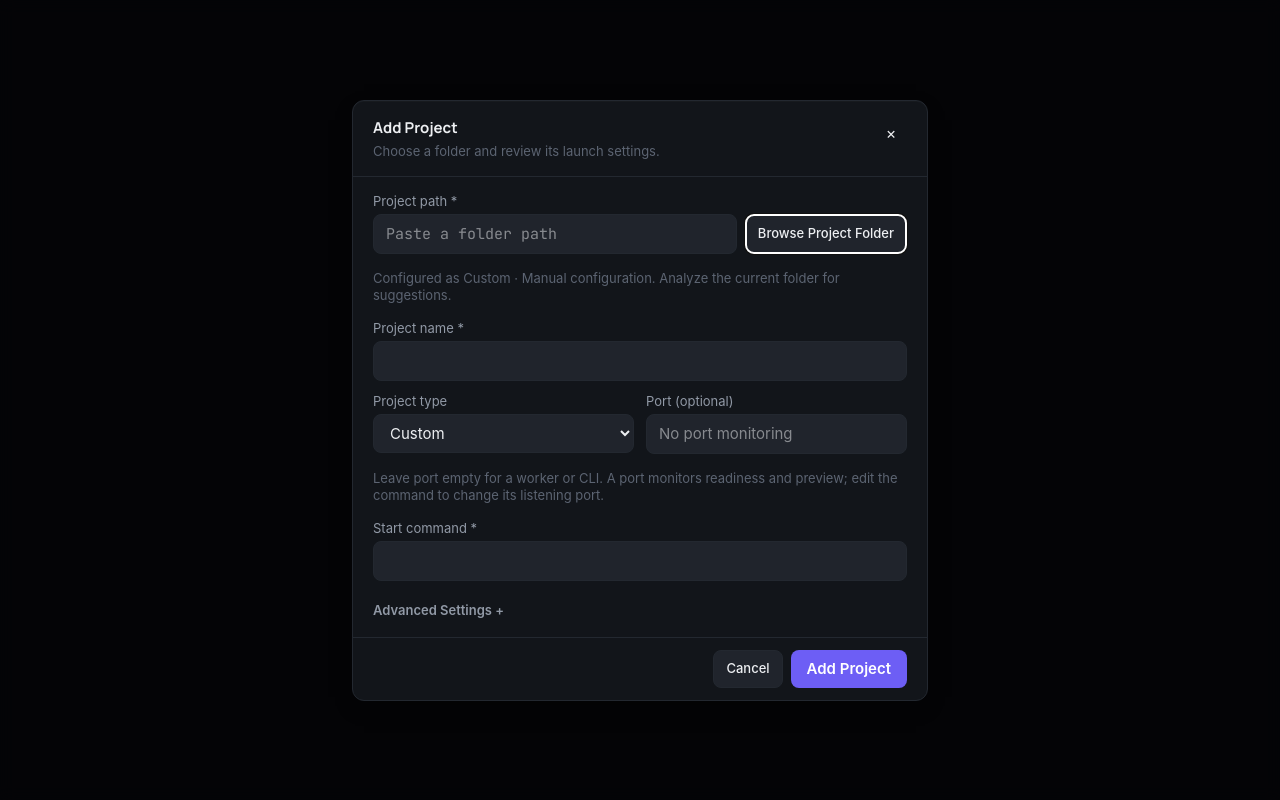
Test: ProjectModal folder detection › first Browse applies the detected type instead of staying CUSTOM
The width and height of the screenshot is (1280, 800).
Click the button "Browse Project Folder".
click(826, 234)  # box [745,214,907,254]
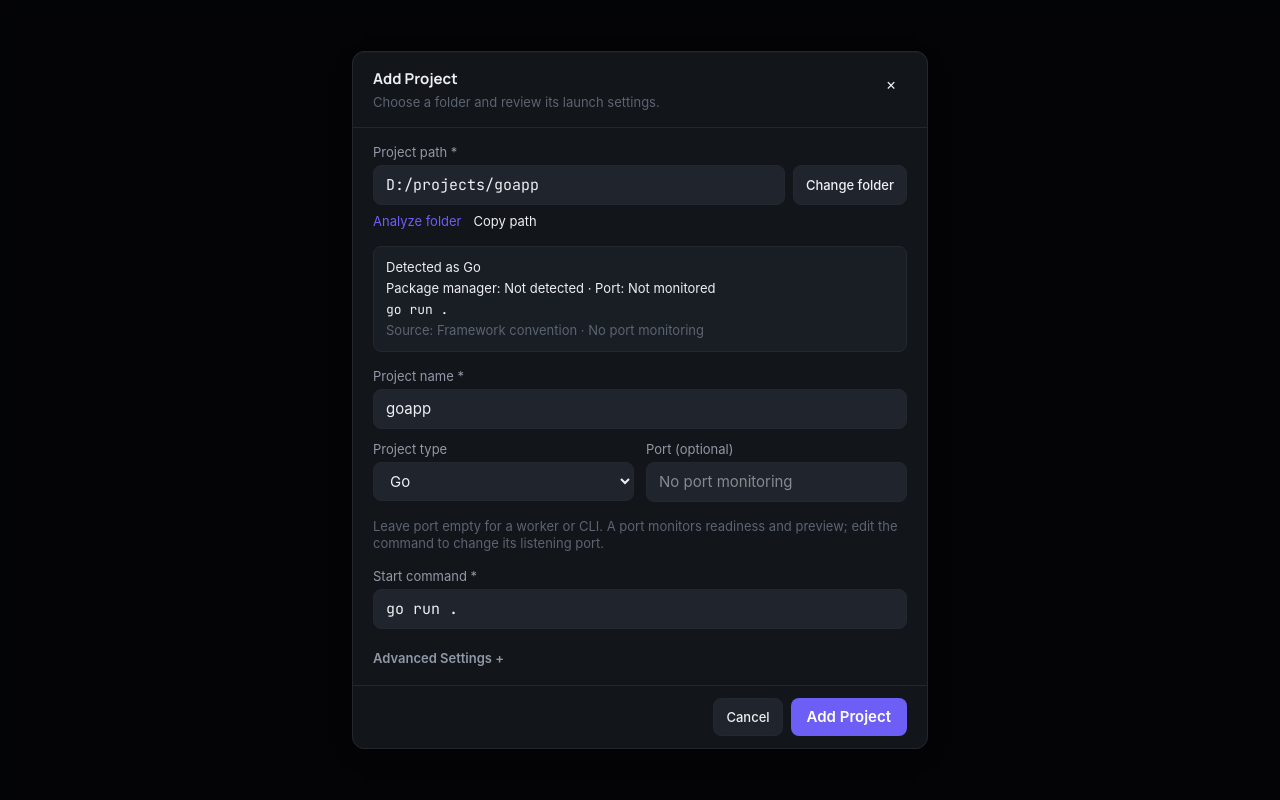
Check: the text "Detected as Go" is shown, box [386,259,481,275]
Check: the text "go run ." is shown, box [386,301,448,318]
Check: the field labelled "Project name *" holds "goapp", box [373,389,907,429]
